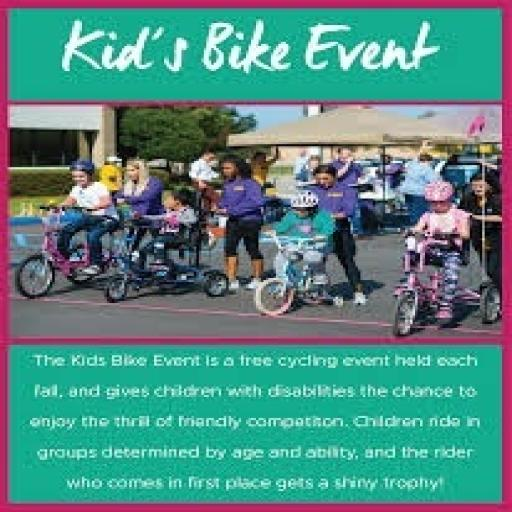cycling: (398, 178, 477, 326), (48, 157, 120, 280), (209, 152, 271, 294)
